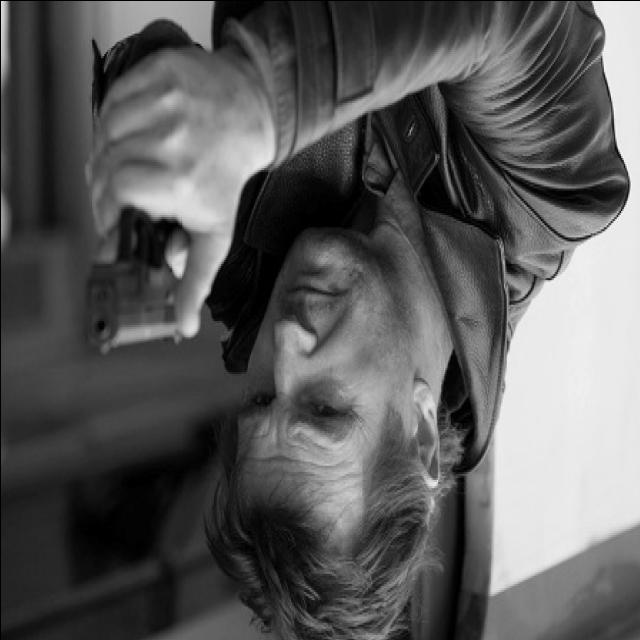weapons: (66, 116, 218, 376)
